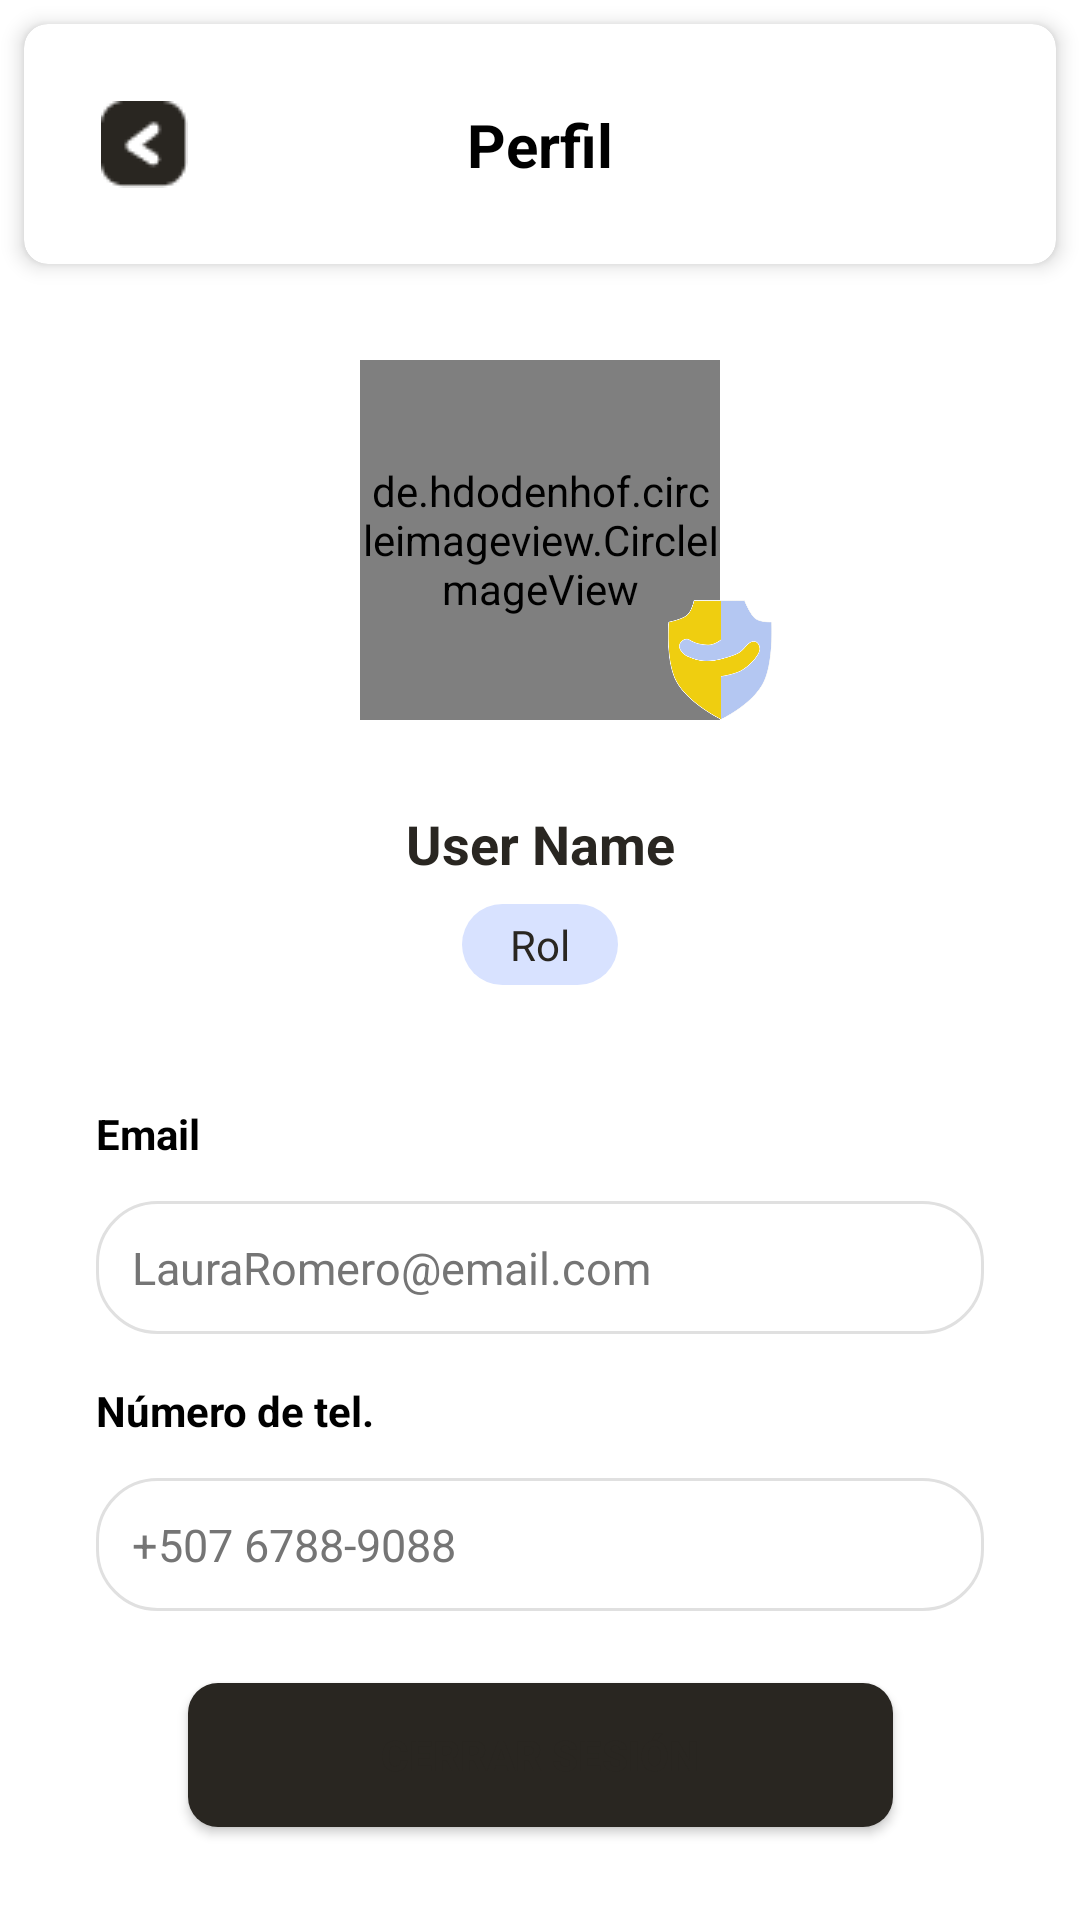

Where icons sit on this 1080*1920 app screen, as bbox=(x1, y1, x2, y2):
back: bbox=(101, 101, 188, 188)
